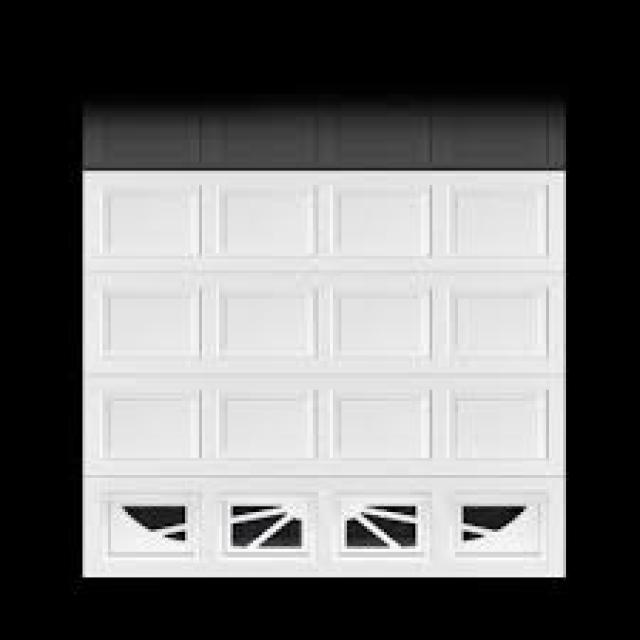door: (81, 168, 568, 580)
